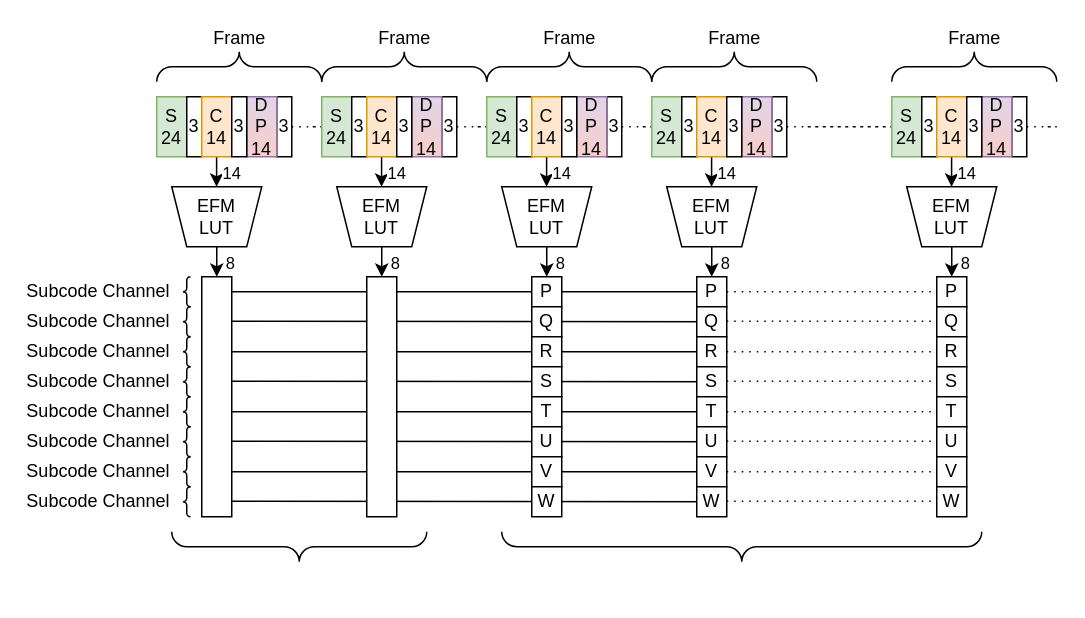
This 1085x618 diagram has some shape labels left out. Here are the shapes that lost their labels. From the top down, the centre of each, then its label:
pixel 216 396: S₀
pixel 381 396: S₁
pixel 298 546: Sync
pixel 741 546: 96 bits per subchannel
